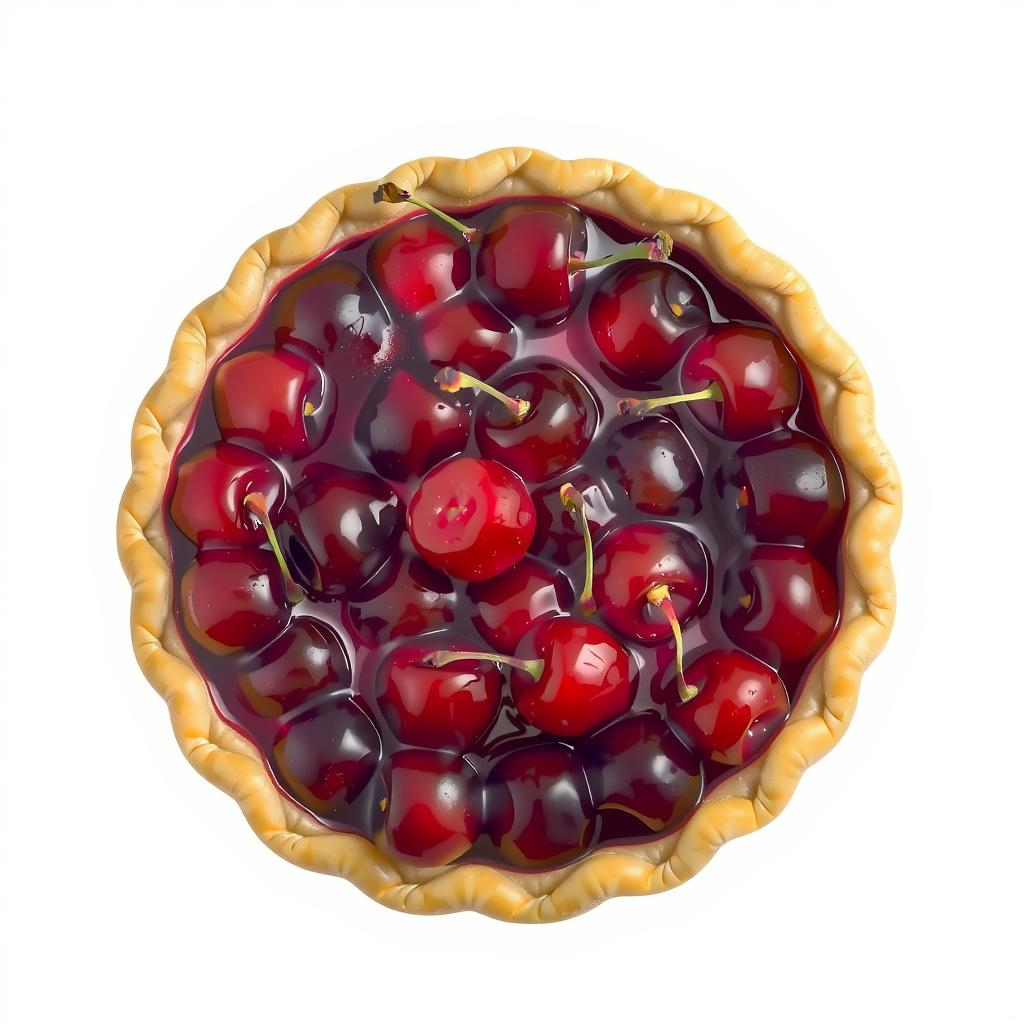pie: (104, 140, 904, 930)
